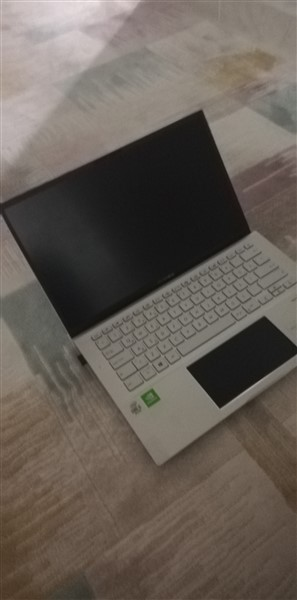laptop: (5, 109, 295, 464)
